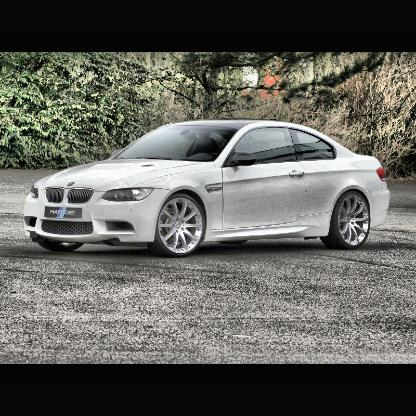BMW M3 Coupe 2012: (23, 122, 391, 260)
